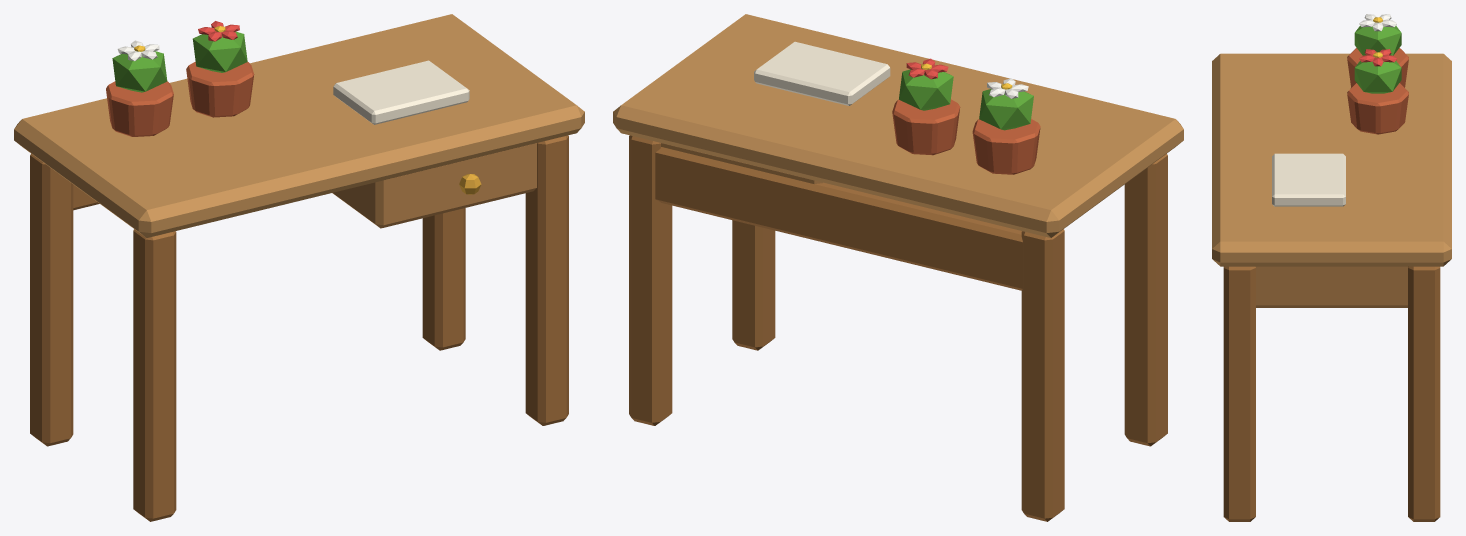
The model's file is desk.glb.
The picture shows the model from 3 angles, left to right: view 1: azimuth 30°, elevation 25°; view 2: azimuth 150°, elevation 25°; view 3: azimuth 270°, elevation 25°; orthographic projection. The views are drawn at different scales.
Parts seen in each view (by area): view 1: desk; view 2: desk; view 3: desk.
Part boxes in pixels (box(x1,y1,x2,y2)): desk: box(14, 14, 584, 521); desk: box(613, 14, 1183, 521); desk: box(1212, 14, 1451, 521).
Size of the model in its own units: 1 by 0.852 by 0.52.
